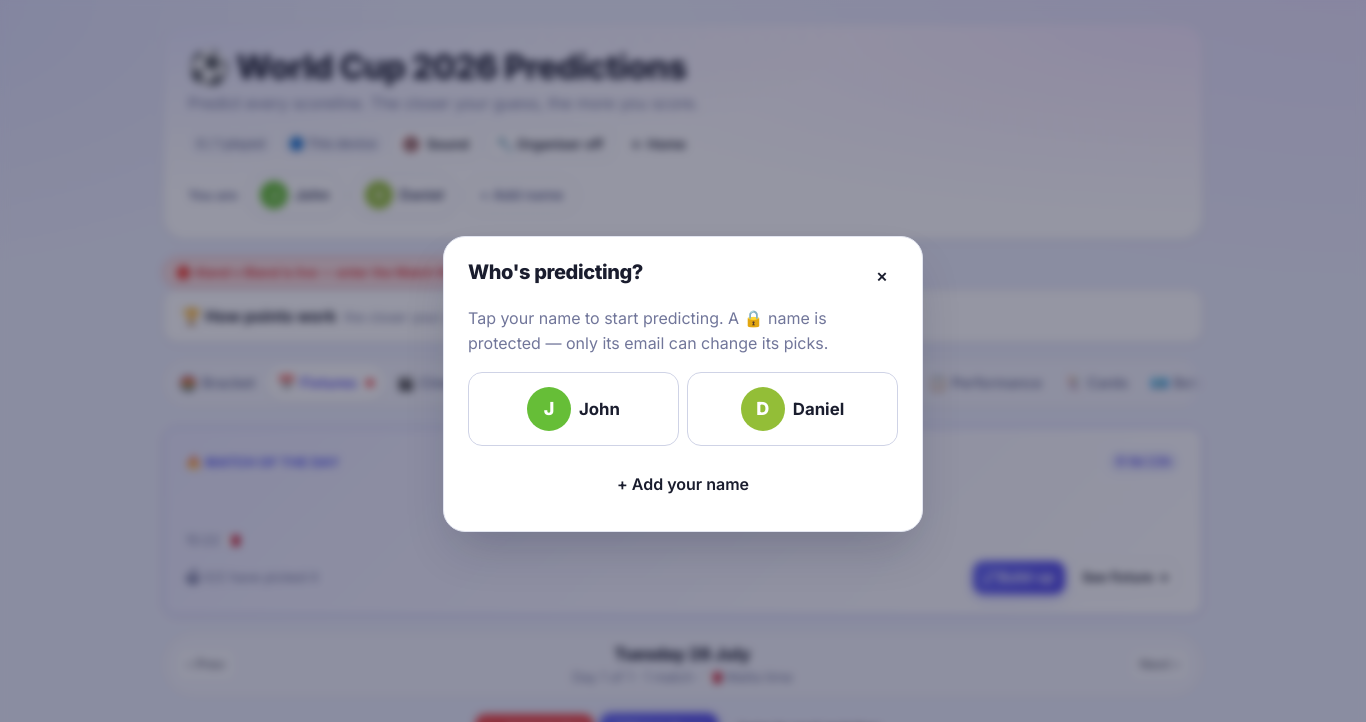
WorldCupPage › posts a comment in the match card thread
Check: the heading "⚽ World Cup 2026 Predictions" is shown, box x1=188 y1=47 x2=699 y2=87
Click the button "J John". click: (574, 409)
box: x1=468 y1=372 x2=679 y2=446
(page scrolled)
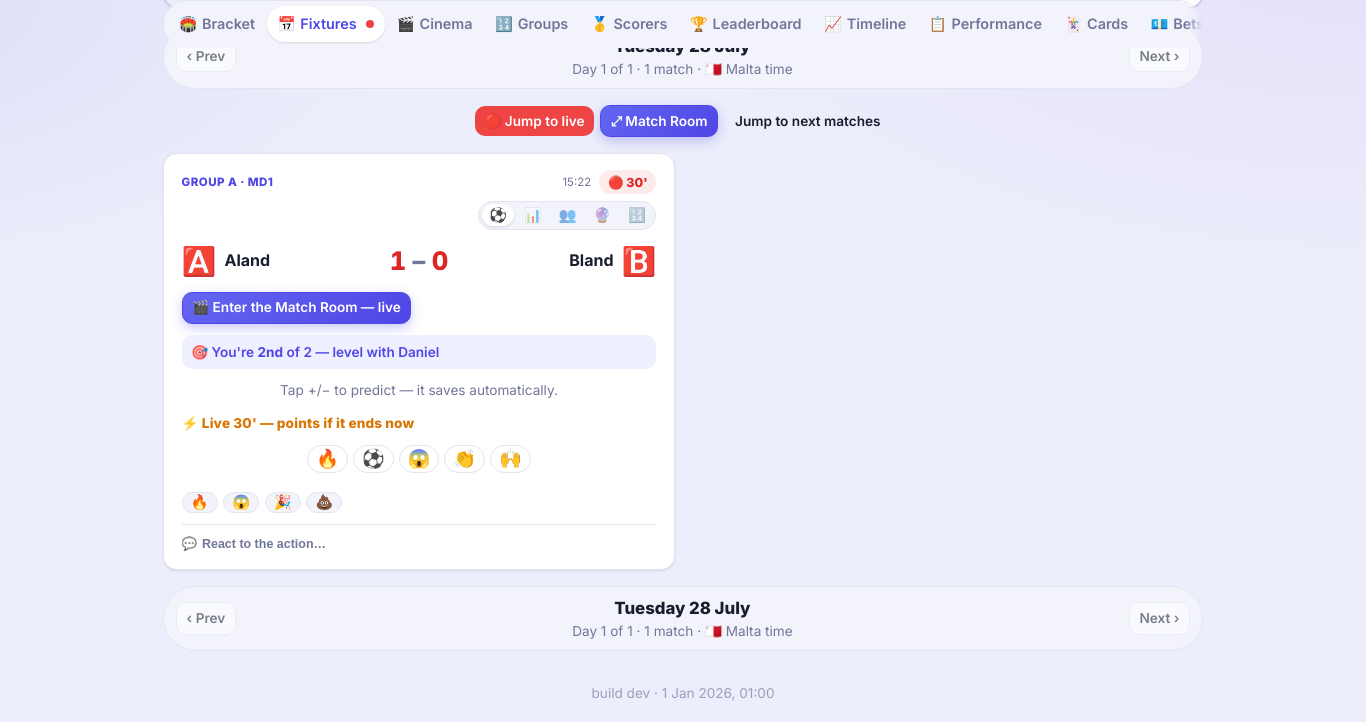
# The thread is collapsed by default — open it, then post.
Click the button with aria-label "Banter". click: (264, 544)
box: x1=182 y1=533 x2=656 y2=553
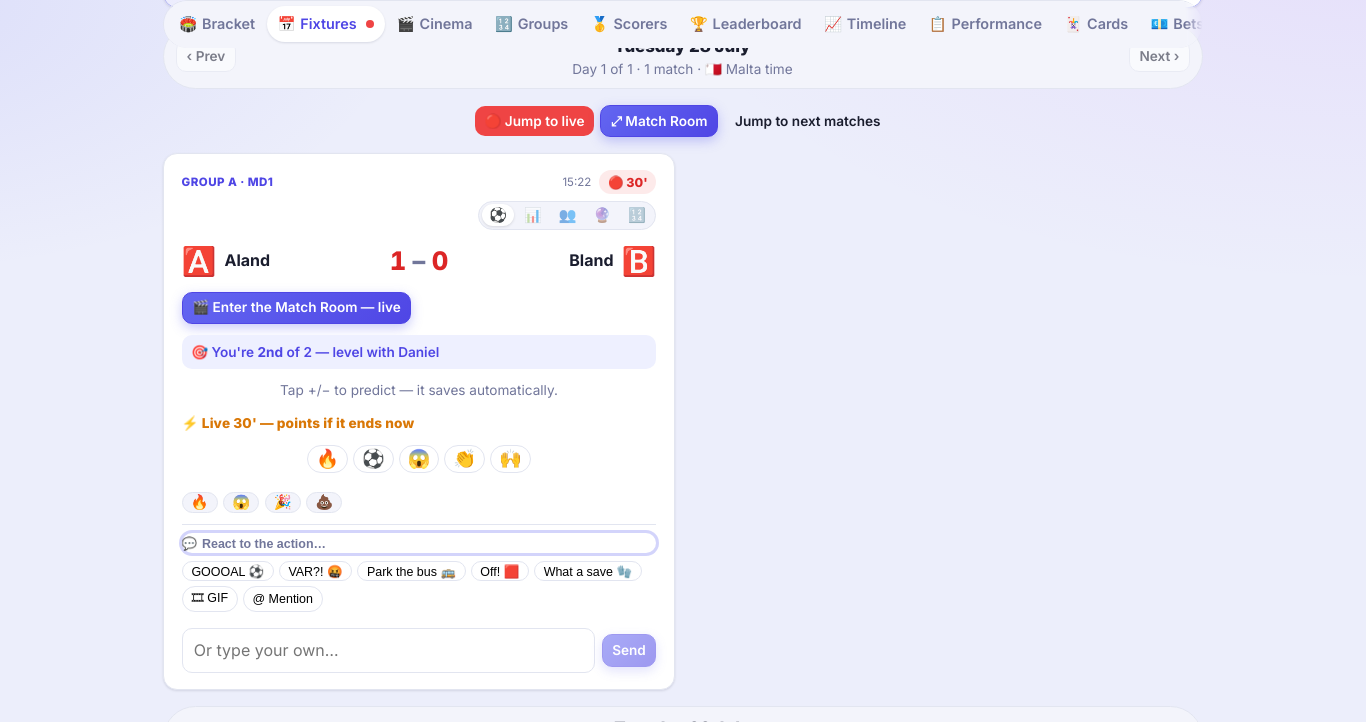
Type "Come on England!" into the field named "Match comment". click: (388, 651)
box: x1=182 y1=628 x2=595 y2=673
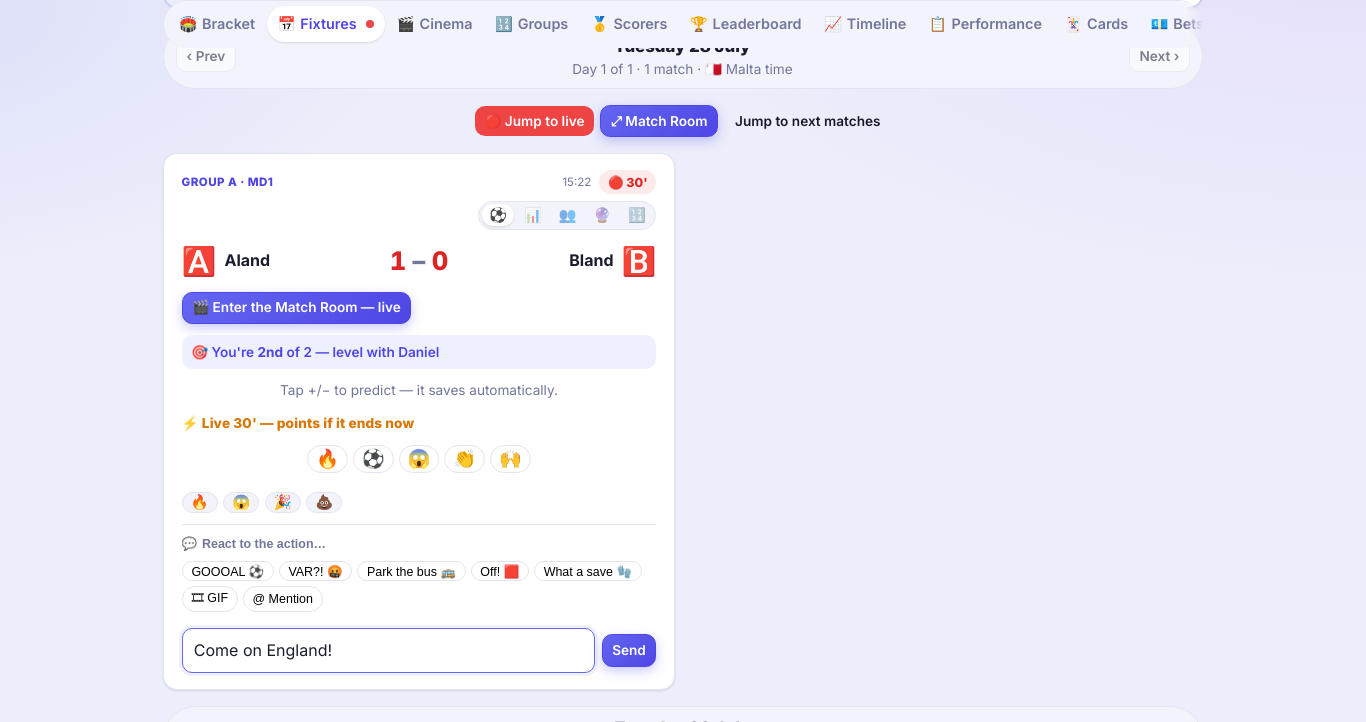
Click the button "Send". click: (629, 651)
box: x1=602 y1=634 x2=656 y2=667
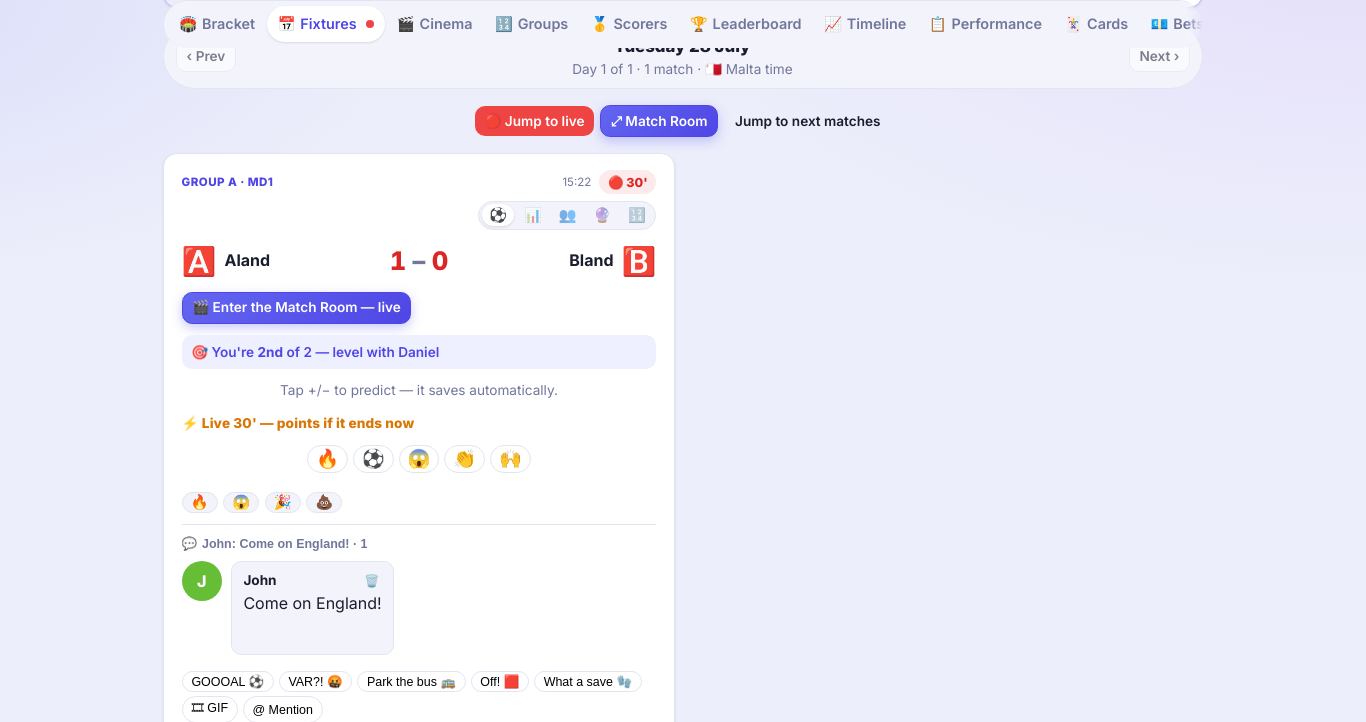
Check: the text "Come on England!" is shown, box x1=243 y1=593 x2=382 y2=613
